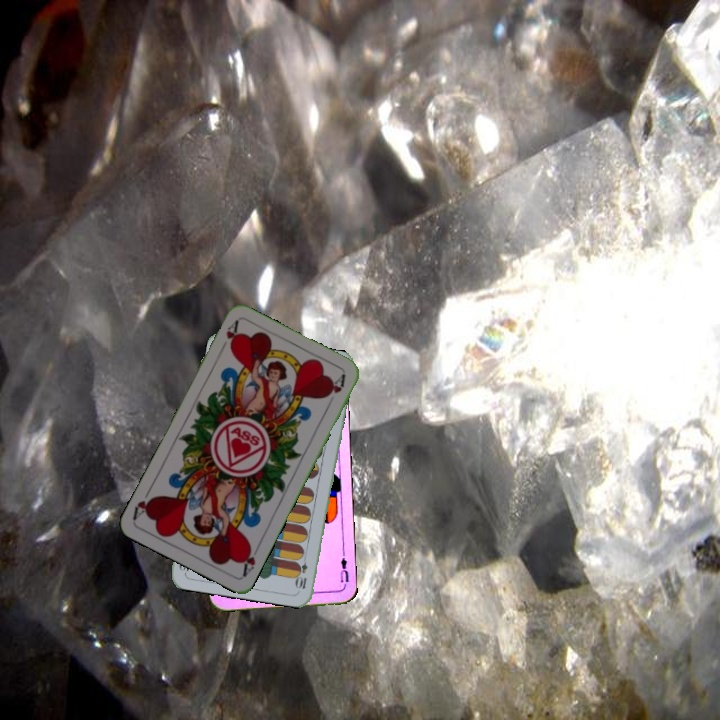E10: (294, 551, 310, 591)
EU: (336, 554, 351, 590)
HA: (238, 540, 263, 579), (222, 317, 241, 351)
